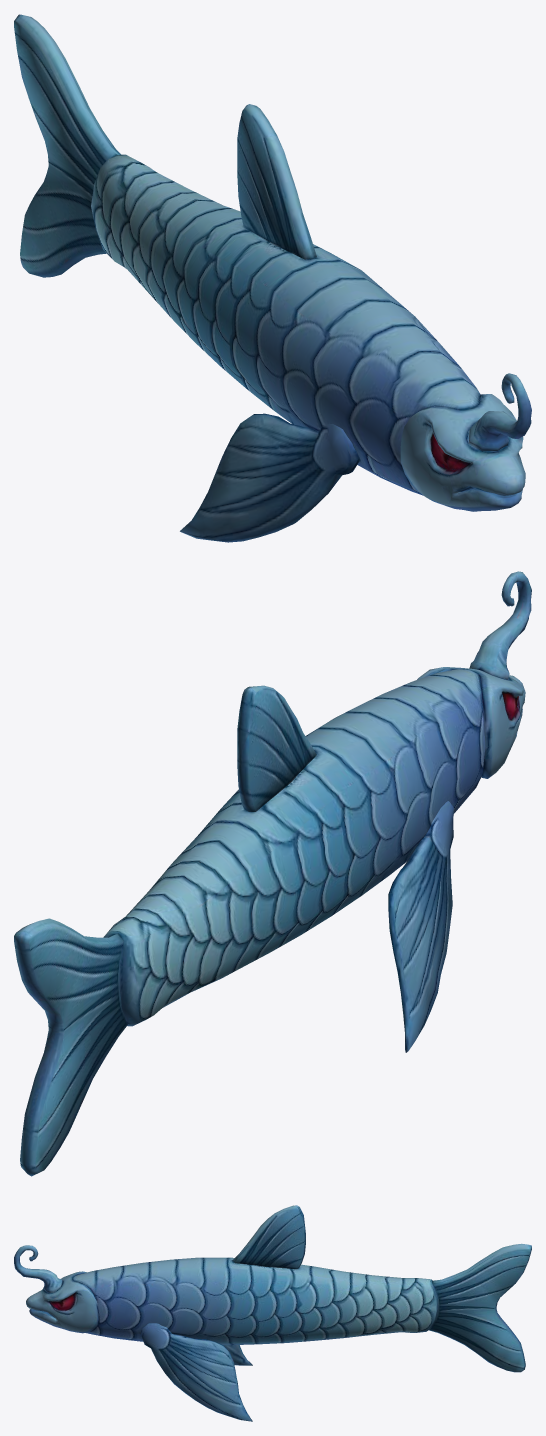
3 renders of one model, top to bottom at view 1: azimuth 30°, elevation 25°; view 2: azimuth 150°, elevation 25°; view 3: azimuth 270°, elevation 25°, orthographic. The views are drawn at different scales.
Parts seen in each view (by area): view 1: yu8; view 2: yu8; view 3: yu8.
Boxes of the visible parts, x1,y1,x2,y2 form: yu8: [14, 14, 531, 542]; yu8: [14, 571, 531, 1176]; yu8: [14, 1205, 531, 1421].
Size of the model in its own units: 25.98 by 40.04 by 99.8.
Materials: 1 (1 with a texture image).
